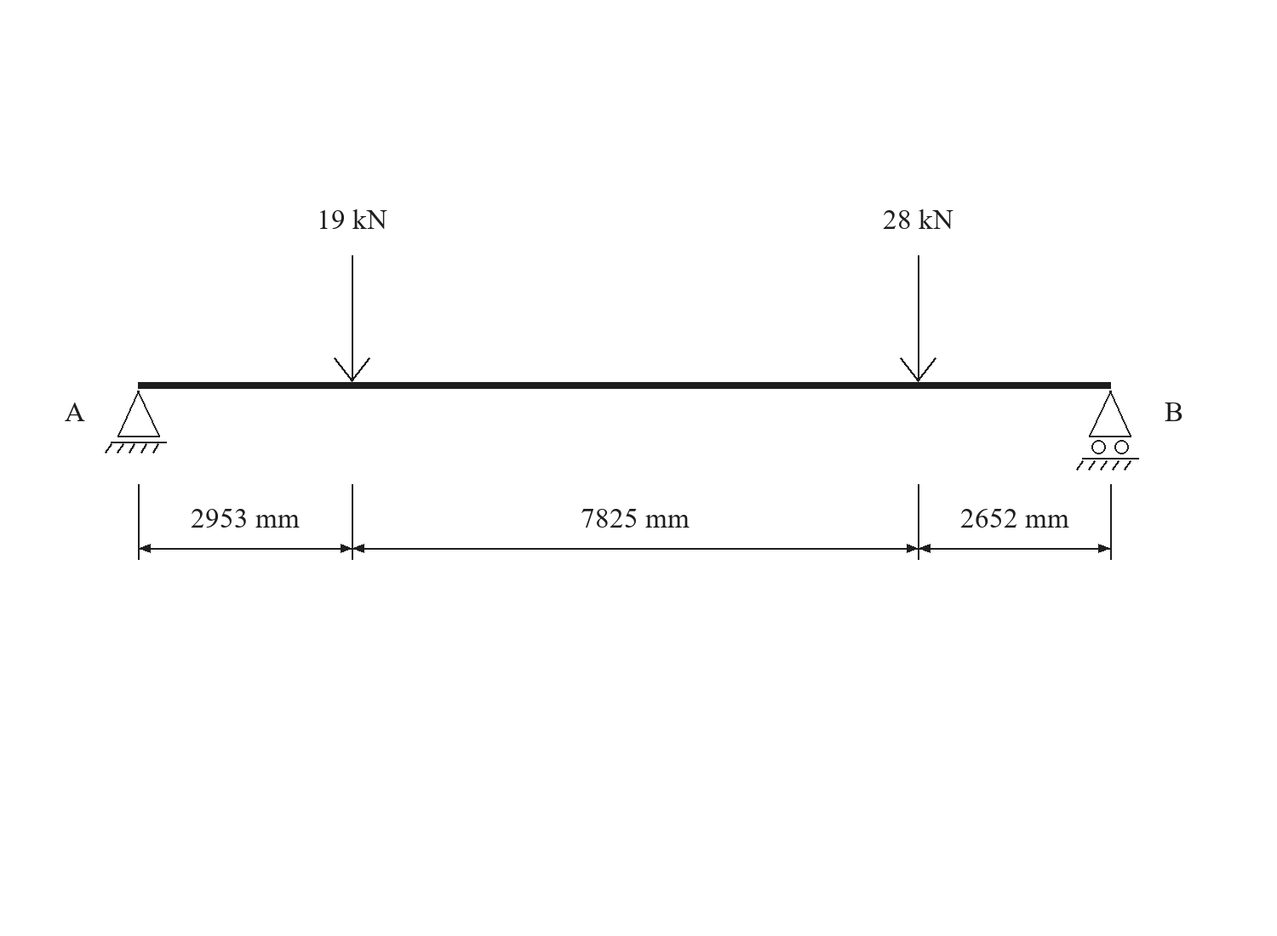pin_support: (105, 391, 167, 454)
point_load: (334, 255, 370, 382), (900, 255, 936, 382)
roller_support: (1076, 391, 1139, 471)
